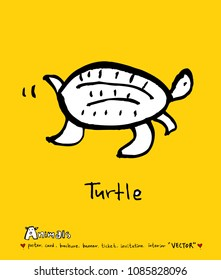animal: (39, 50, 202, 154)
